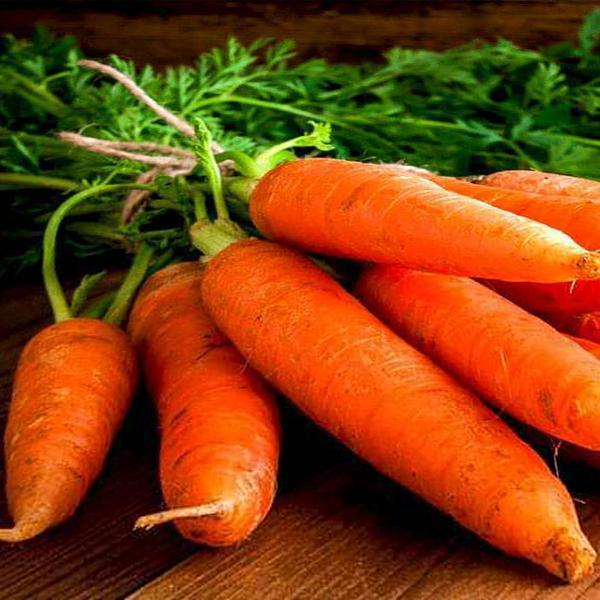carrot: (3, 31, 600, 600), (50, 161, 600, 600), (196, 221, 600, 588), (352, 255, 600, 462), (121, 249, 283, 560)
